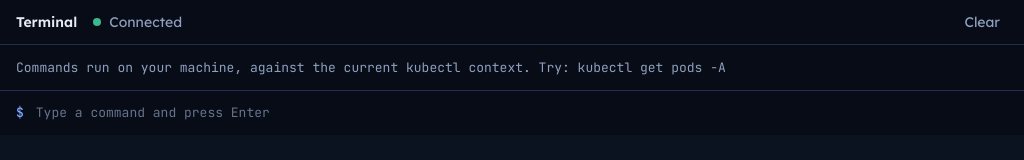
Test: sends the typed command to the backend
The width and height of the screenshot is (1024, 160).
Type "kubectl get pods" into the field named "terminal command input".
click(522, 113); type("kubectl get pods")  # box x1=36 y1=103 x2=1008 y2=123
Then press Enter
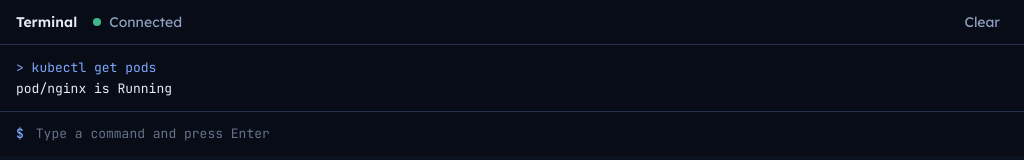
expect the text "> kubectl get pods" is shown: met, box x1=16 y1=57 x2=156 y2=78
expect the text "pod/nginx is Running" is shown: met, box x1=16 y1=78 x2=172 y2=99
